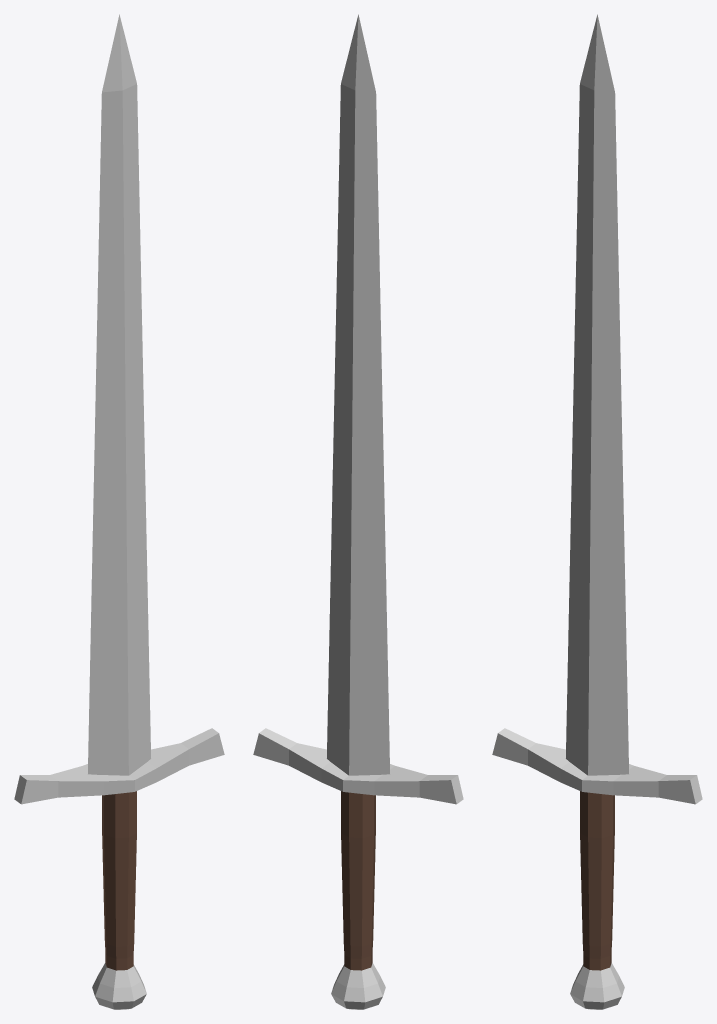
File: sword.fbx
3 views of the same model, side by side, from view 1: azimuth 30°, elevation 25°; view 2: azimuth 150°, elevation 25°; view 3: azimuth 330°, elevation 25° (orthographic).
Parts seen in each view (by area): view 1: sword; view 2: sword; view 3: sword.
Boxes of the visible parts, <box> form: sword: <box>14,14,224,1009</box>; sword: <box>253,14,463,1009</box>; sword: <box>492,14,702,1009</box>.
Size of the model in its own units: 38.63 by 180 by 10.11.
